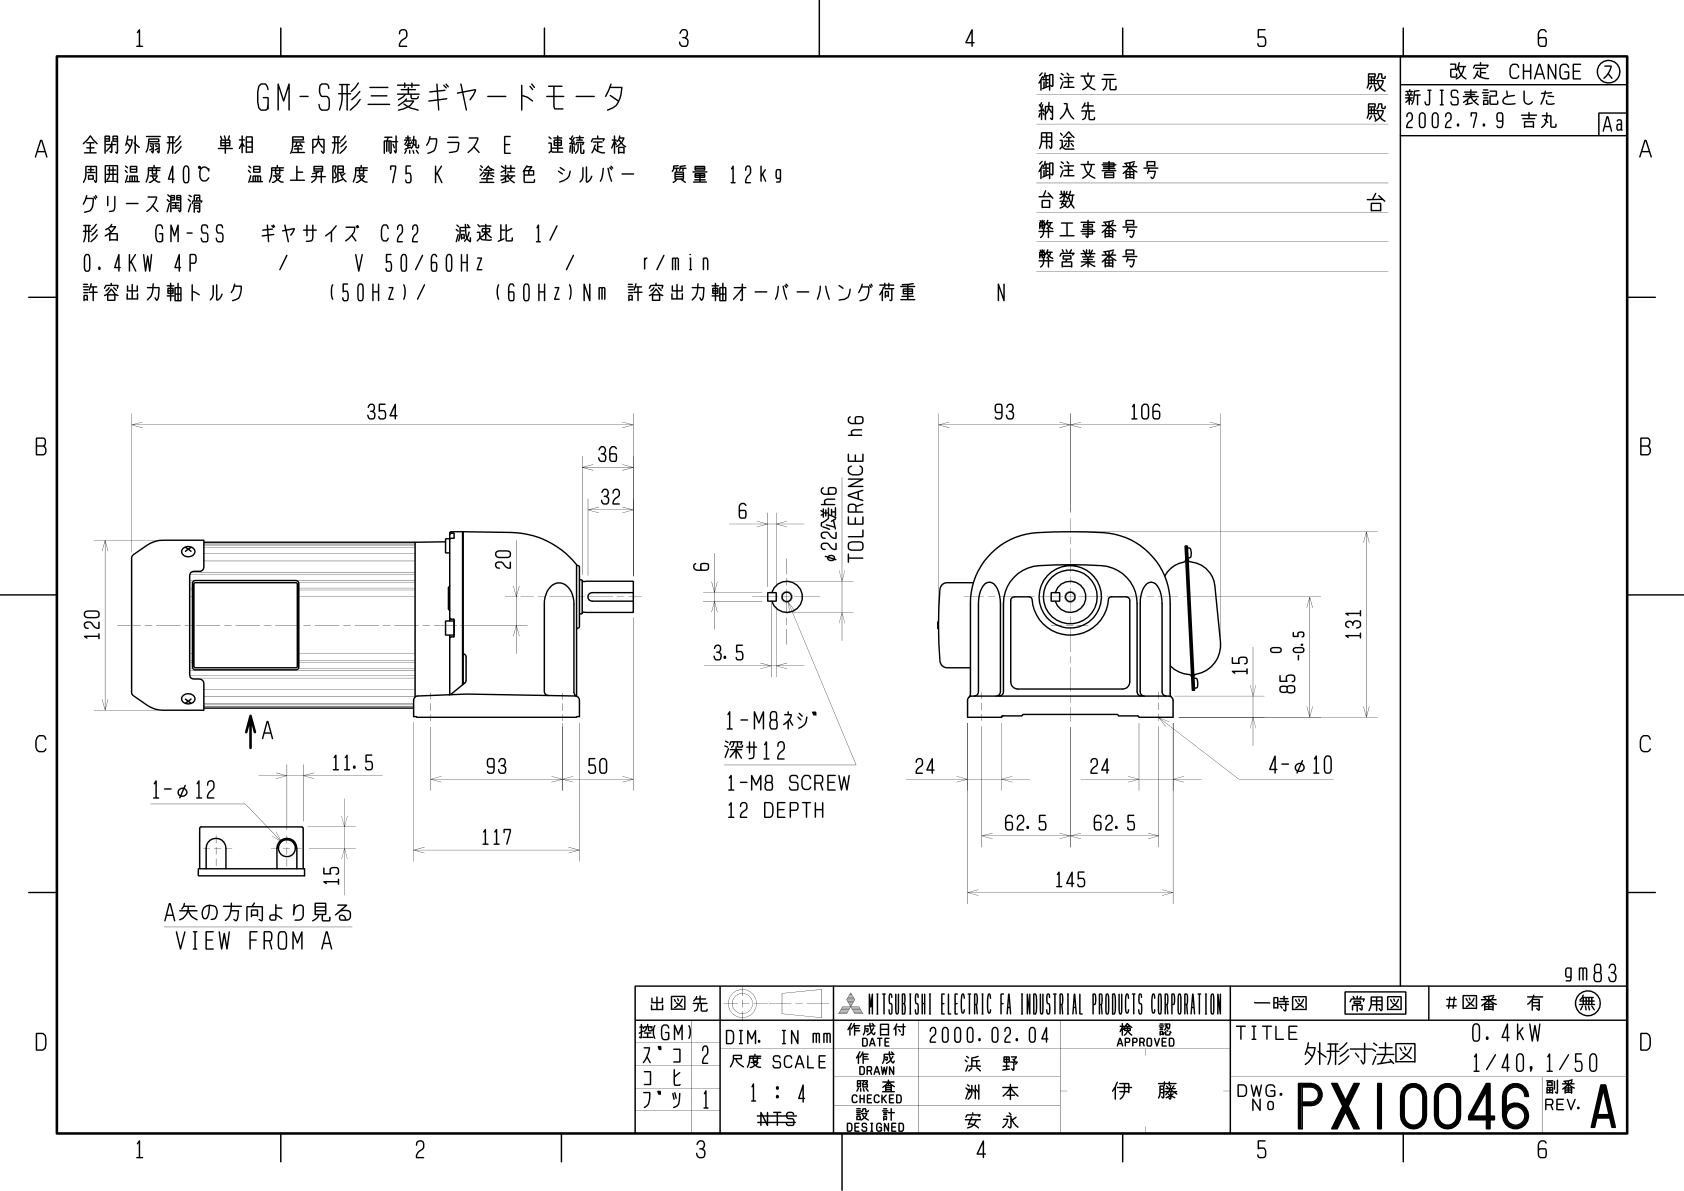GM_S_屋内＿三相_脚: (75, 339, 1389, 959)
